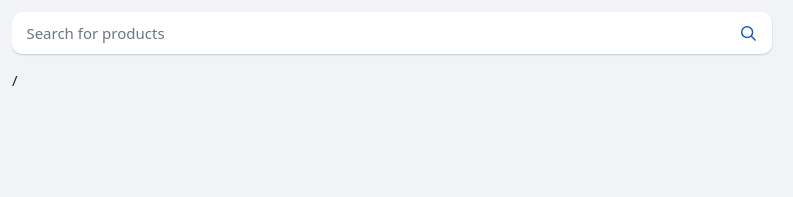
Test: SearchBox recent searches › forgets them all with Clear
Click the dropdown named "Search products" at x=368, y=33, box [12,12,724,54]
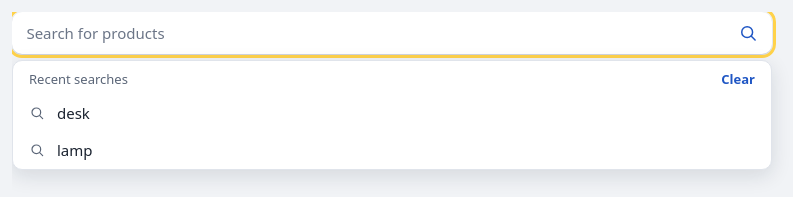
Click the button "Clear" at x=738, y=80, box [721,70,755,89]
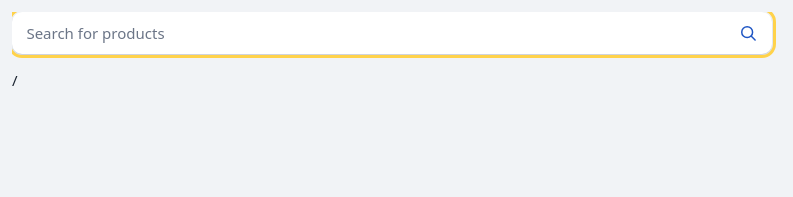
Now the list is gone
